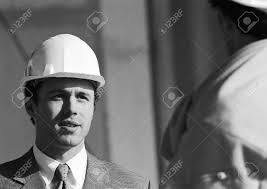Person_wearing_helmet: (11, 30, 105, 110)
